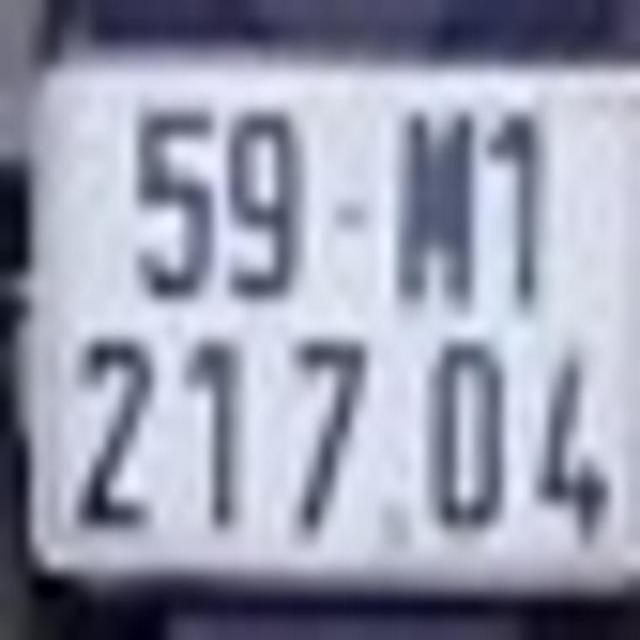0: (426, 338, 505, 536)
1: (500, 108, 555, 319), (187, 337, 247, 530)
2: (80, 333, 163, 524)
4: (536, 352, 612, 550)
5: (134, 95, 215, 299)
7: (279, 329, 372, 546)
9: (224, 99, 302, 304)
M: (390, 105, 492, 312)
